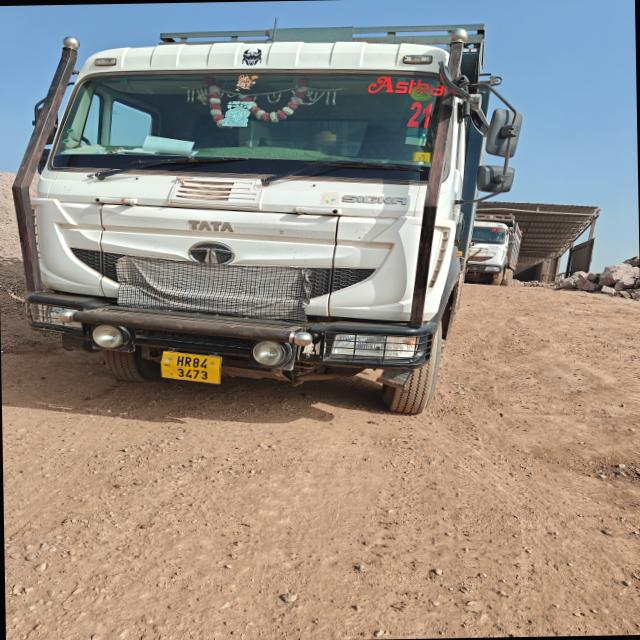license_plate: (161, 352, 221, 383)
